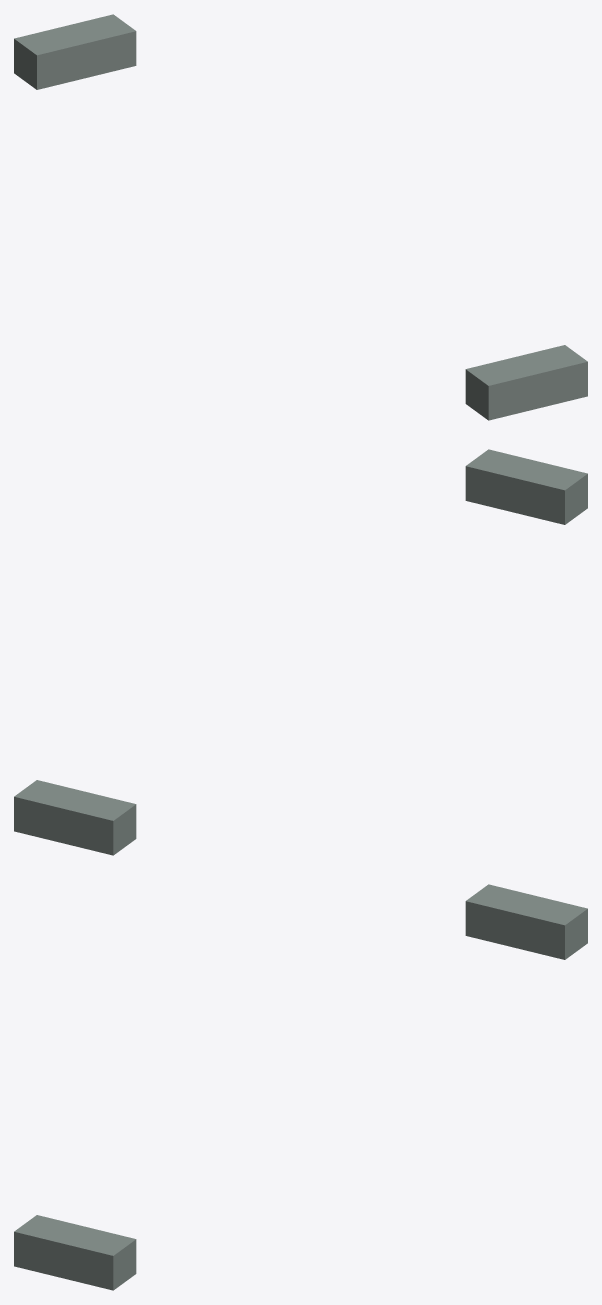
The model's file is DoorHandles.glb.
3 renders of one model, top to bottom at view 1: azimuth 30°, elevation 25°; view 2: azimuth 150°, elevation 25°; view 3: azimuth 330°, elevation 25°, orthographic.
Parts seen in each view (by area): view 1: Cube.061; view 2: Cube.061; view 3: Cube.061.
Part boxes in pixels (box(x1,y1,x2,y2)): Cube.061: box(14, 14, 587, 420); Cube.061: box(14, 449, 587, 855); Cube.061: box(14, 884, 587, 1290).
Bounding box in the file's own units: 0.00968 × 0.00323 × 0.08.
Materials: 1 (1 with a texture image).
